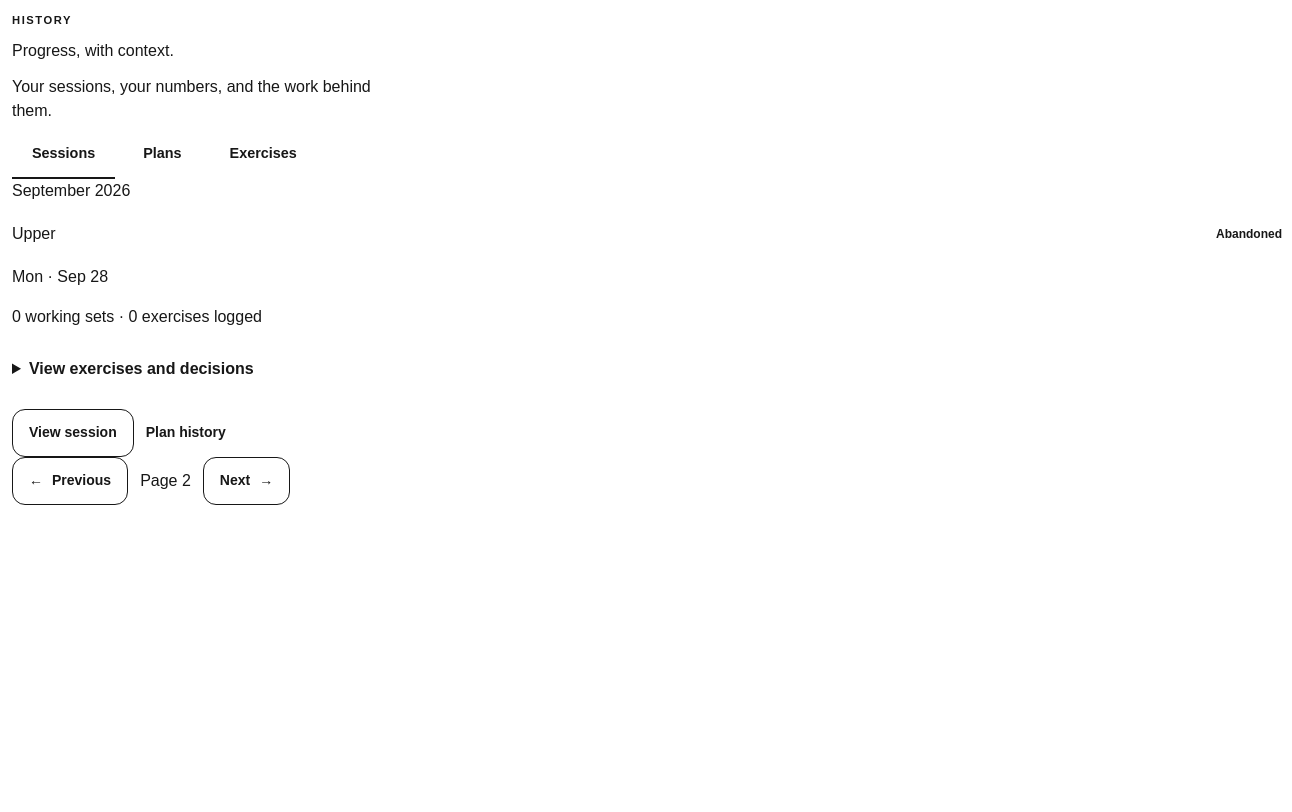
Test: does not fetch progression decisions for abandoned sessions
The image size is (1292, 812).
Click the heading "View exercises and decisions": (141, 368) top-left (29, 360), bottom-right (254, 377)
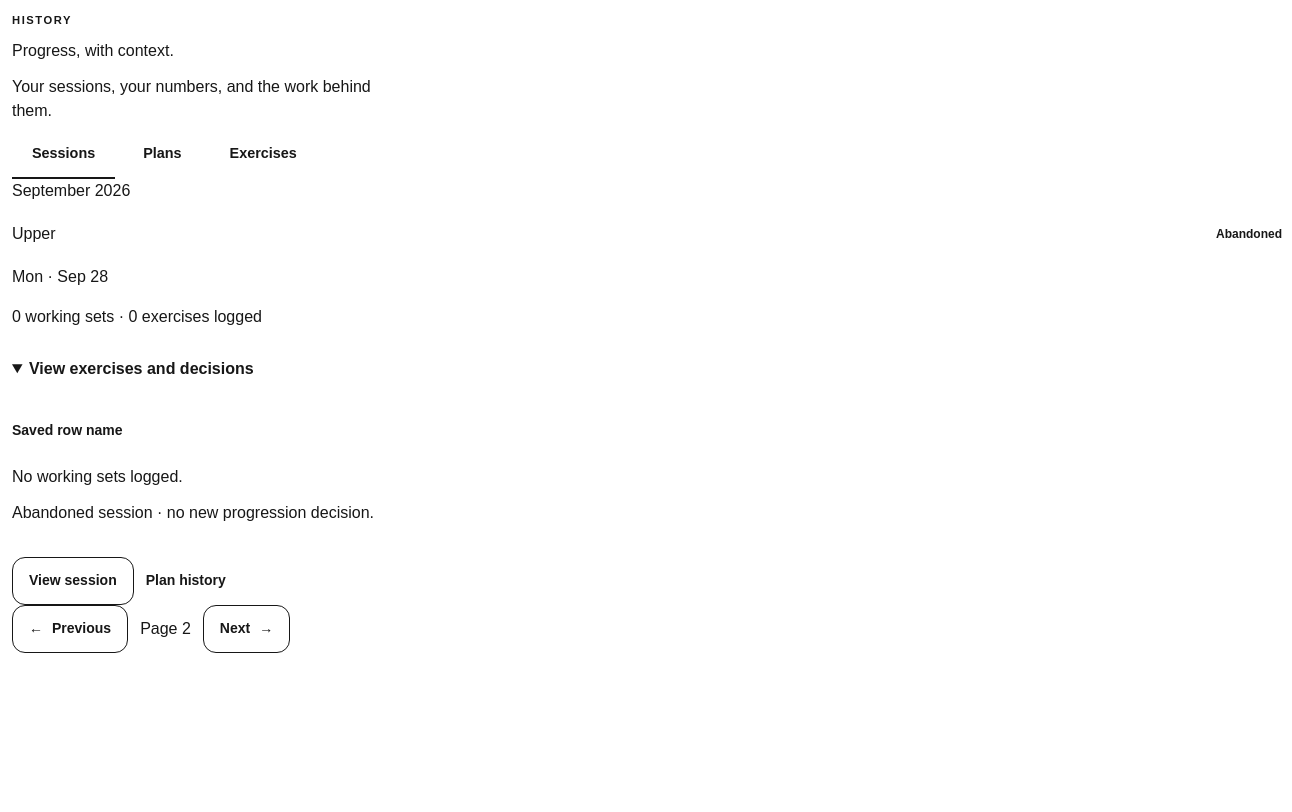
Now the text "Abandoned session · no new progression decision." is shown, box top-left (12, 504), bottom-right (374, 521)
